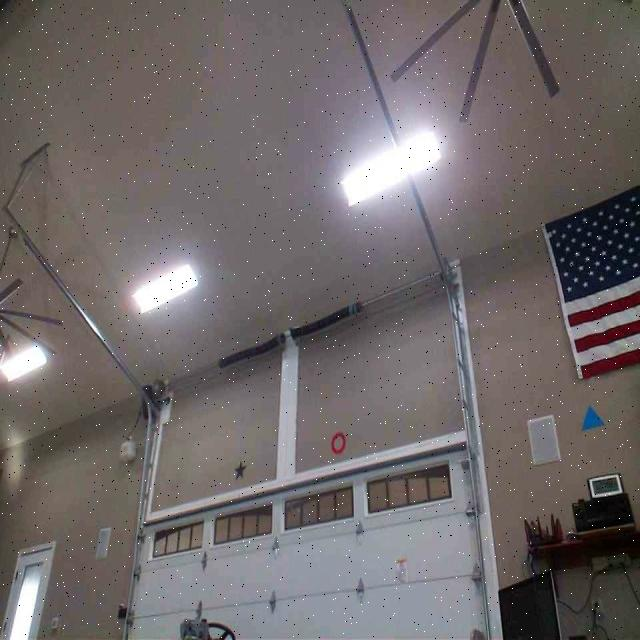ring_red: (330, 432, 344, 452)
star_black: (232, 460, 246, 479)
triangle_blue: (581, 405, 604, 431)
